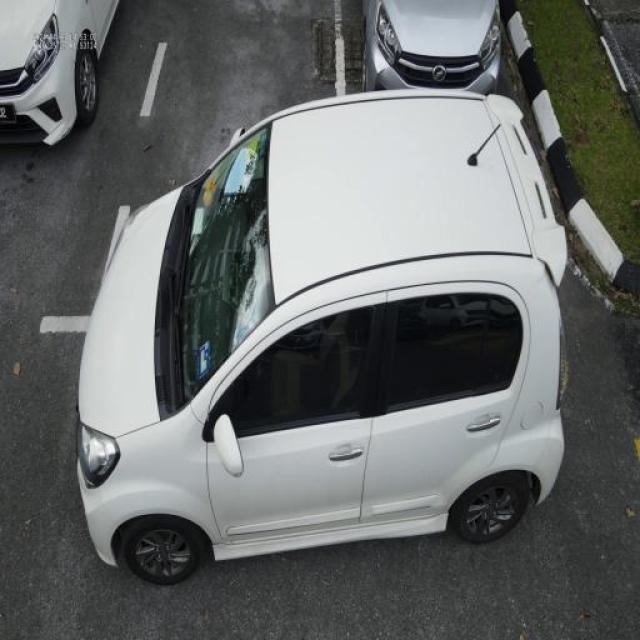Legalparking: (0, 0, 119, 142), (362, 0, 500, 91)
illegalparking: (76, 90, 566, 584)
